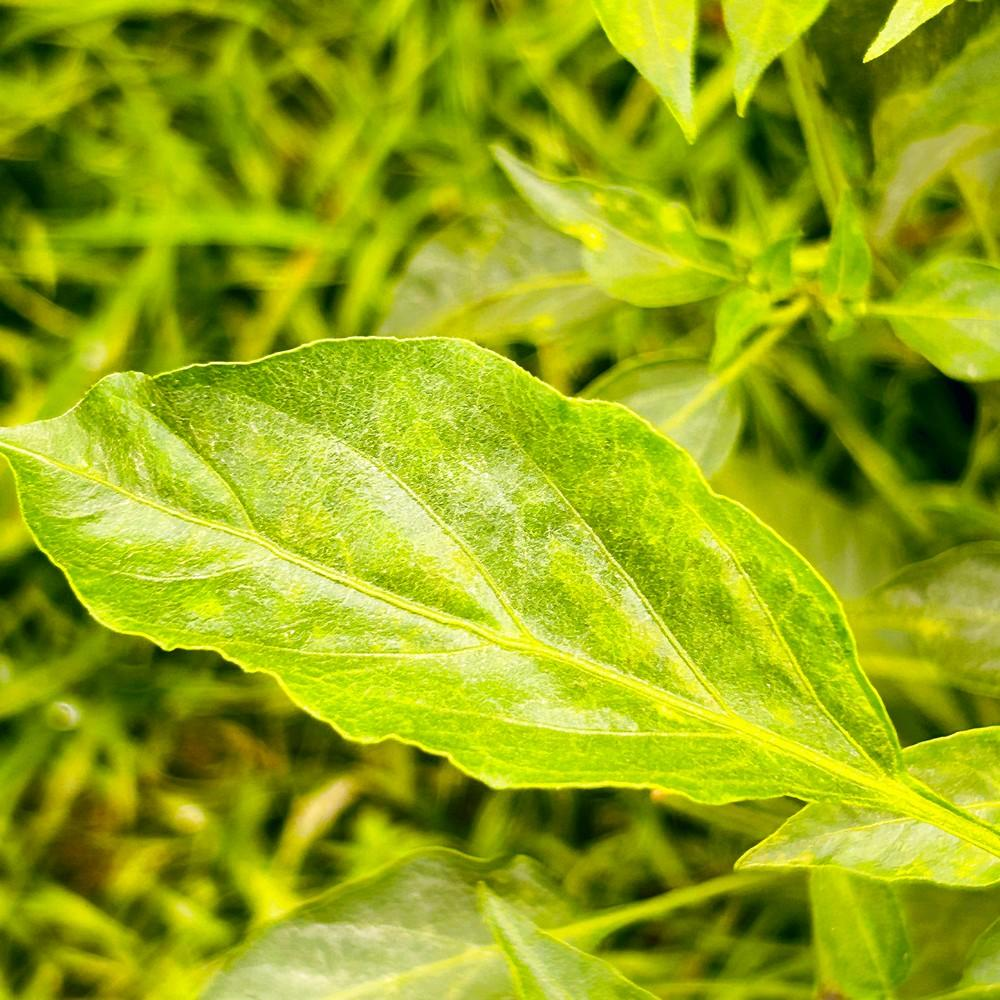Daun Cabai Sehat: (0, 331, 998, 891)
